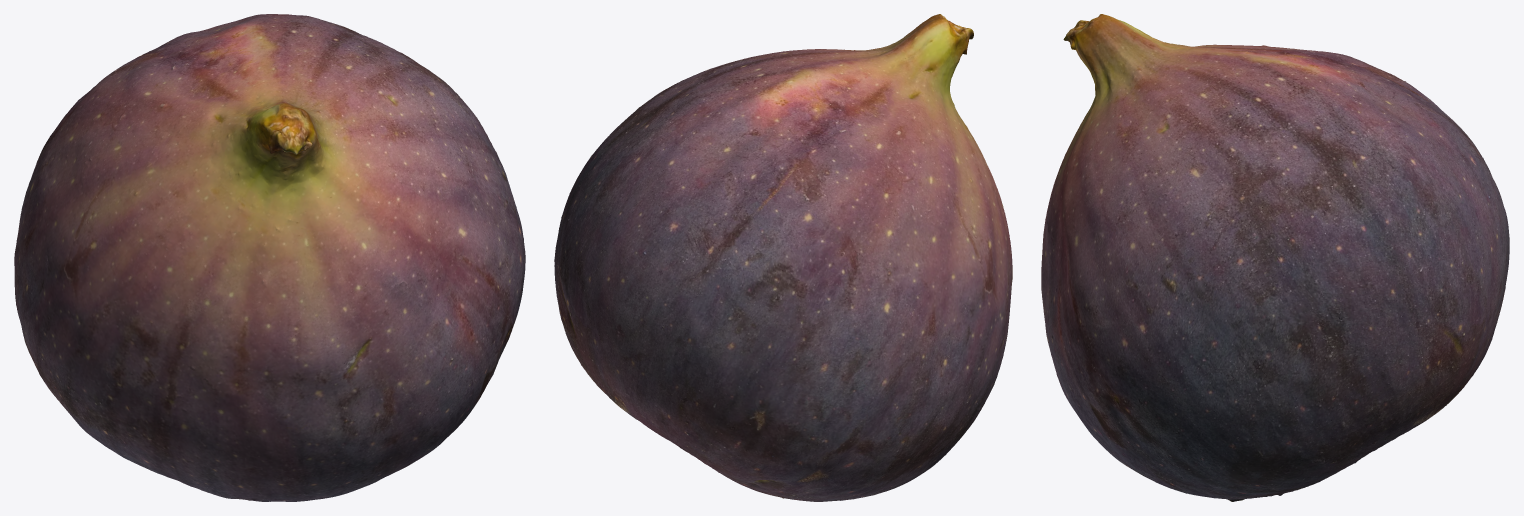
File: fig_n.glb
3 renders of one model, left to right at view 1: azimuth 30°, elevation 25°; view 2: azimuth 150°, elevation 25°; view 3: azimuth 270°, elevation 25°, orthographic. The views are drawn at different scales.
Visible parts, largest first — view 1: Object_2, Object_3; view 2: Object_2, Object_3; view 3: Object_2, Object_3.
Part boxes in pixels (<box>): Object_2: <box>14,14,499,501</box>; Object_3: <box>15,14,525,501</box>; Object_2: <box>554,14,1012,500</box>; Object_3: <box>554,50,1004,501</box>; Object_2: <box>1041,14,1509,410</box>; Object_3: <box>1042,82,1509,501</box>.
Bounding box in the file's own units: 0.1296 × 0.1275 × 0.127.
Materials: 1 (1 with a texture image).
